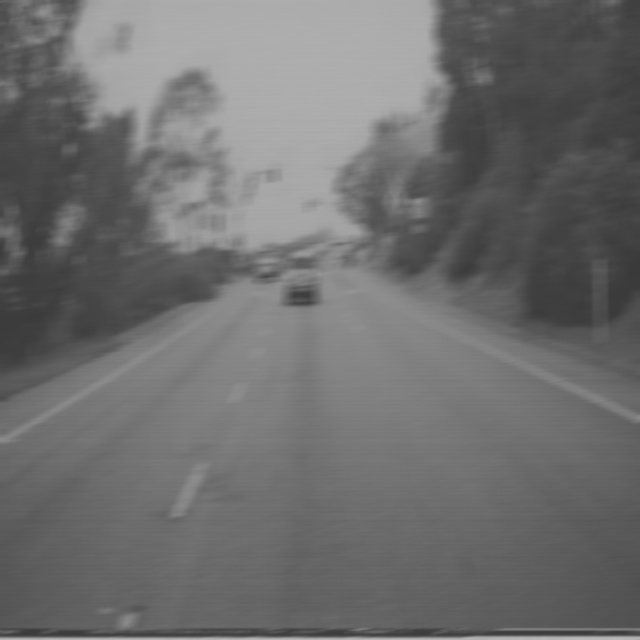pedestrianCrossing: (388, 180, 406, 217)
